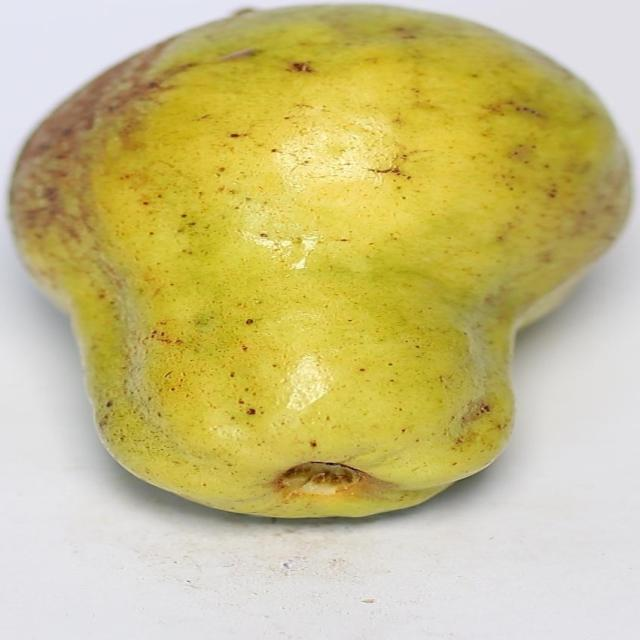Good_Guava: (7, 3, 632, 523)
